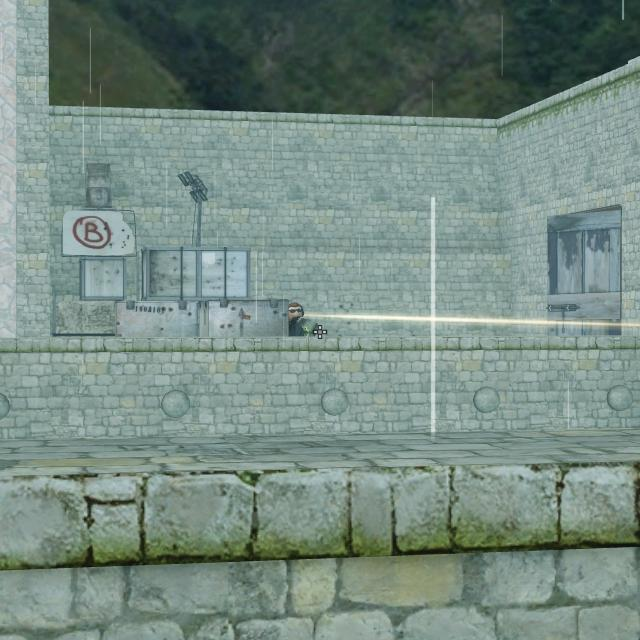Head: (288, 303, 303, 320)
Player: (288, 301, 320, 337)
